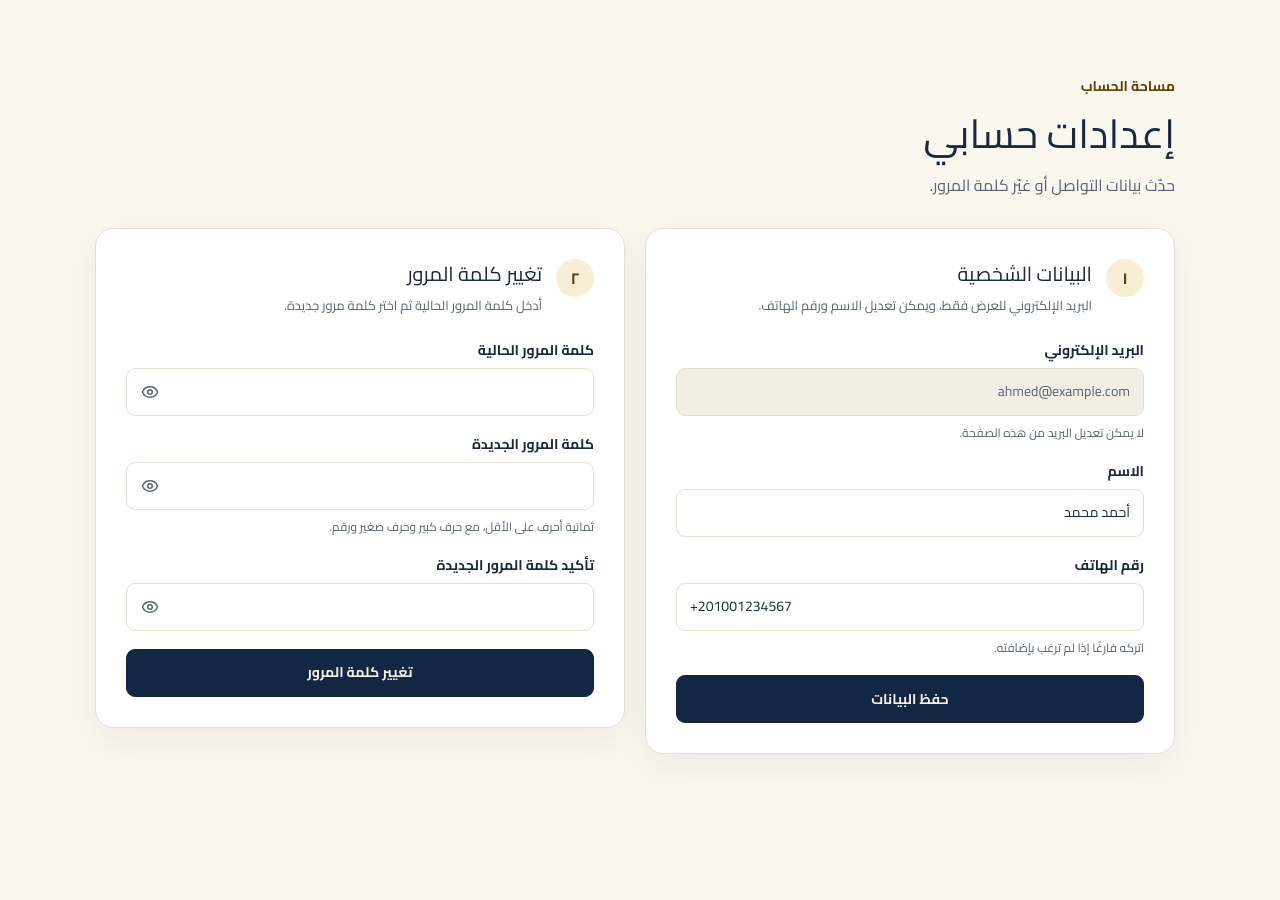
Test: ProfileSettings › renders server field errors with invalid and described-by semantics
Replace the text in the field labelled "الاسم" with "اسم معدل" at (910, 513), box top-left (676, 489), bottom-right (1144, 537)
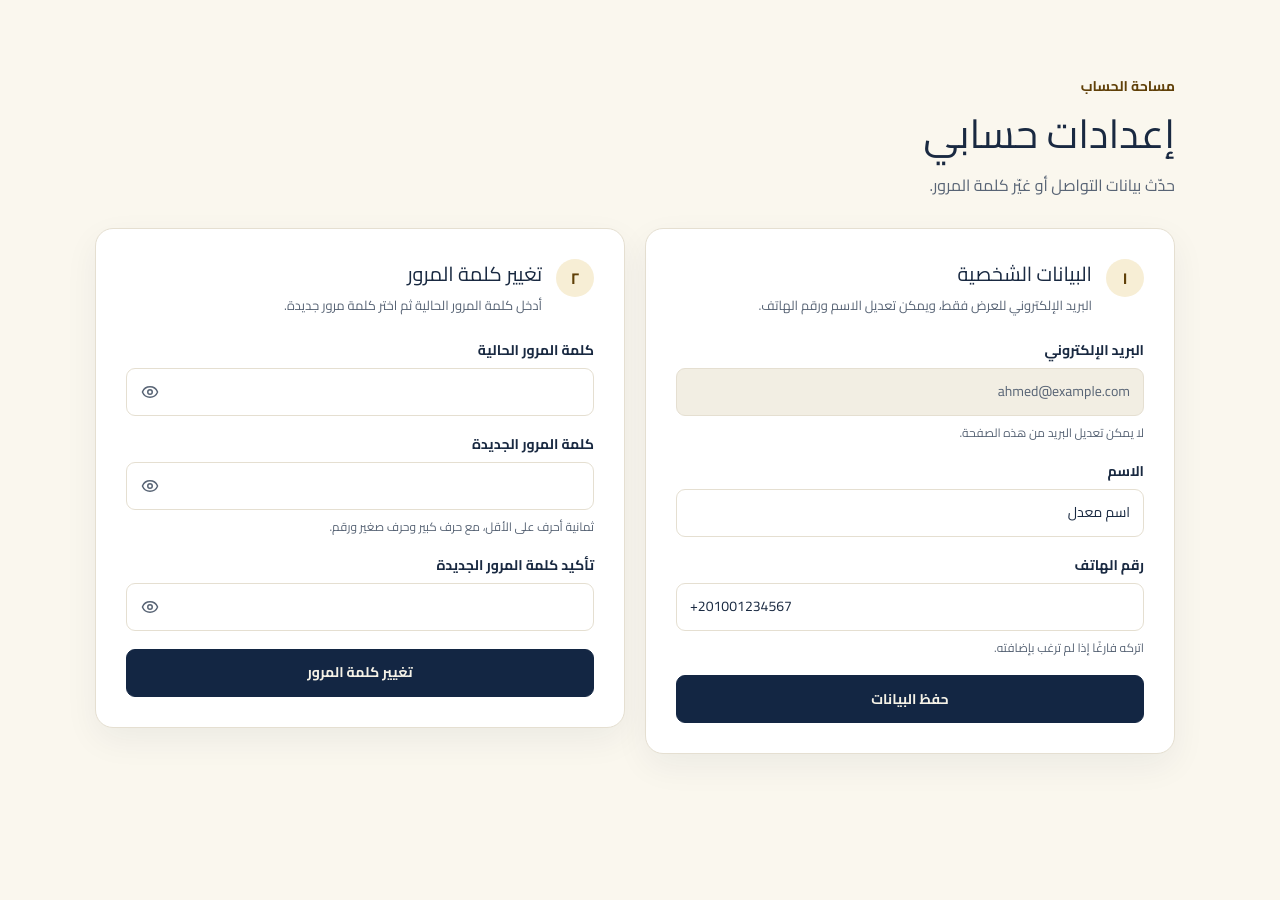
Replace the text in the field labelled "رقم الهاتف" with "+201111111111" at (910, 607), box top-left (676, 583), bottom-right (1144, 631)
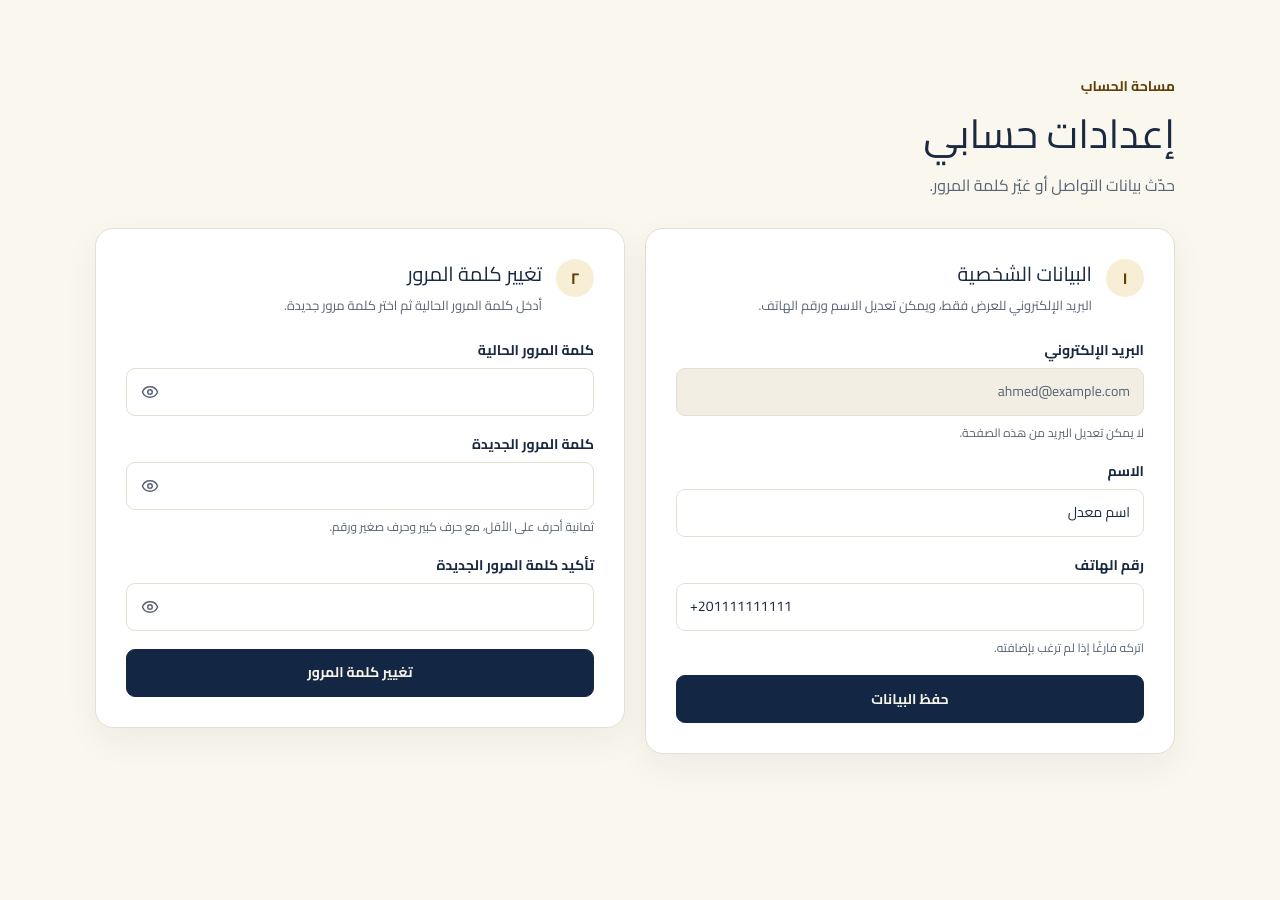
Submit the form that starts with "البريد الإلكتروني", box top-left (676, 340), bottom-right (1144, 724)
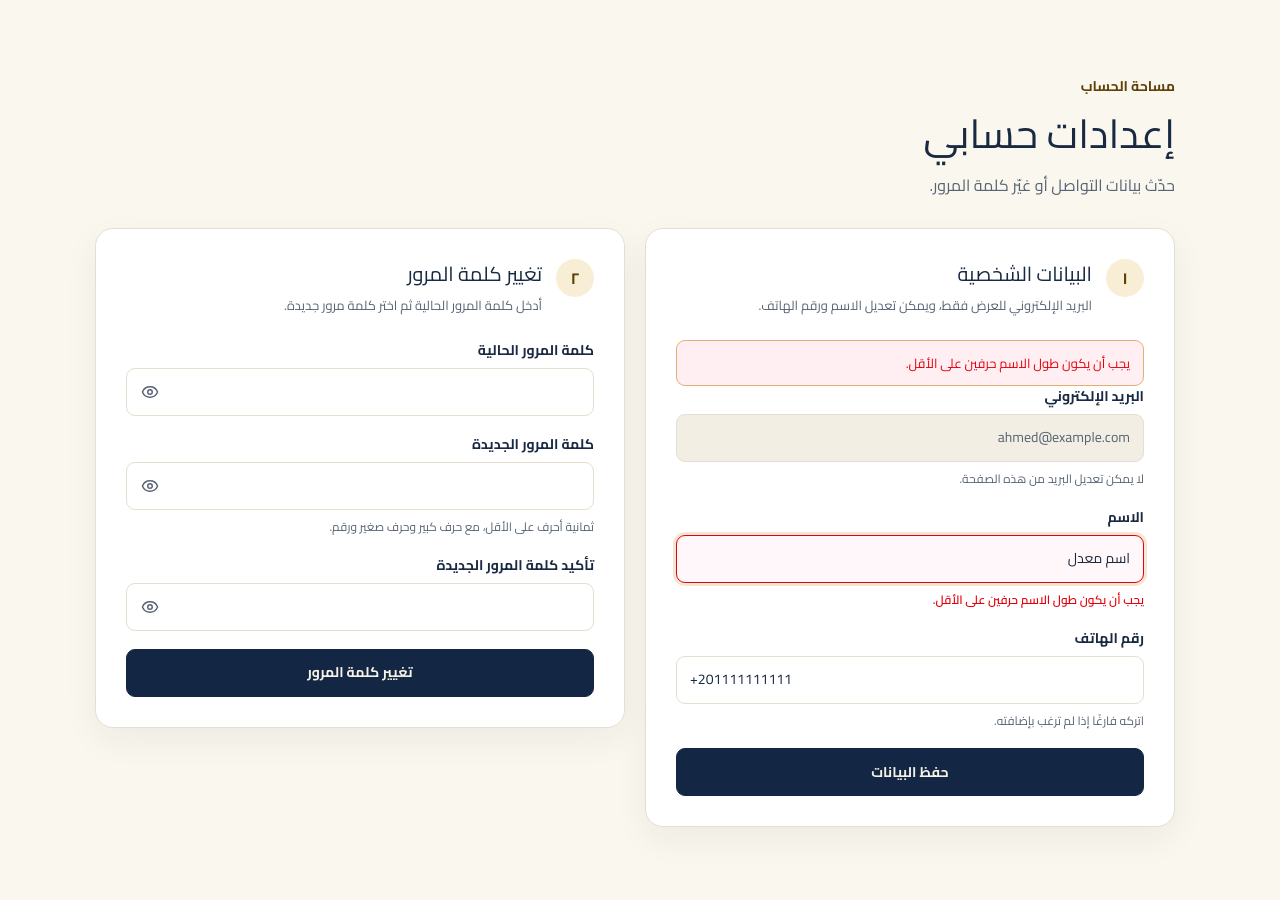
Result: the message reads "يجب أن يكون طول الاسم حرفين على الأقل." at top-left (906, 351), bottom-right (1130, 375)
Result: the text "يجب أن يكون طول الاسم حرفين على الأقل." is shown at top-left (933, 588), bottom-right (1144, 611)
